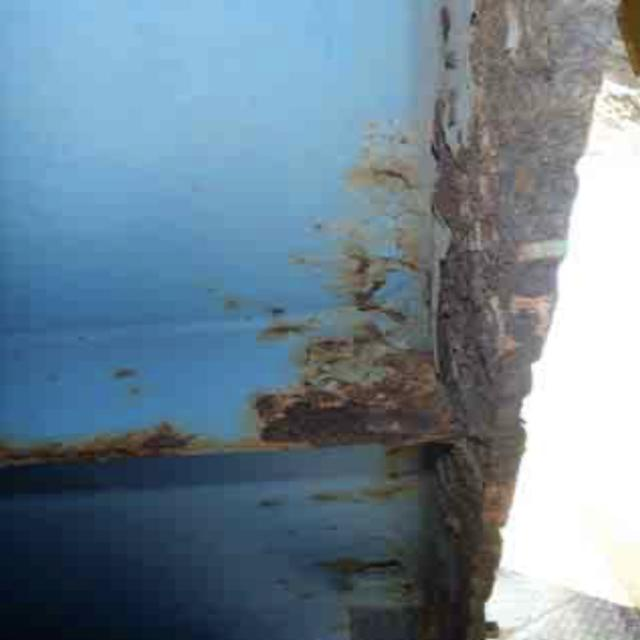corrosion: (283, 111, 533, 580), (12, 401, 202, 486)
